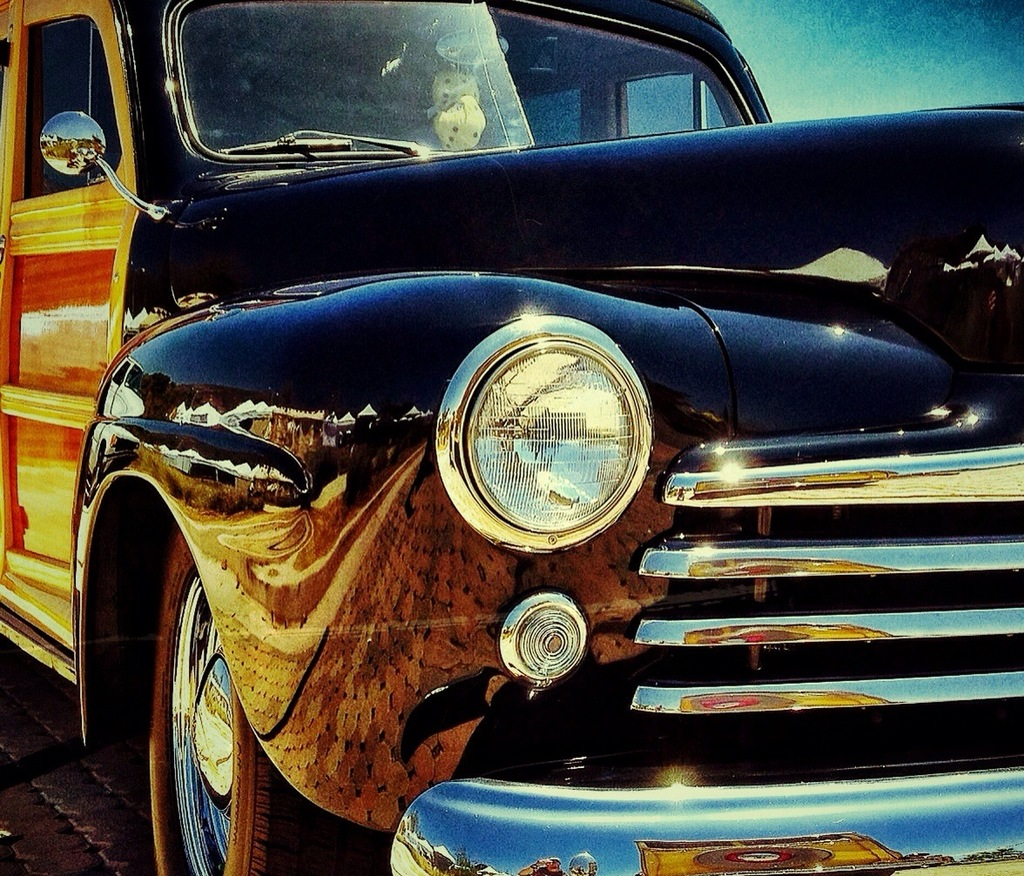Car: (0, 6, 1023, 875)
